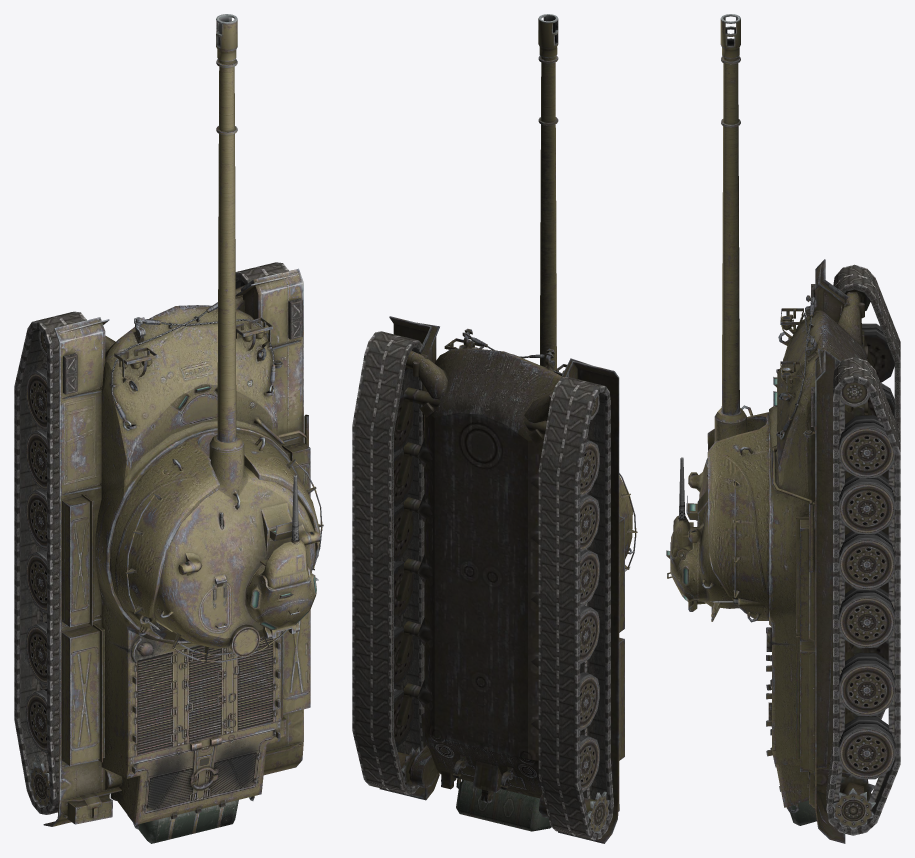
The picture shows the model from 3 angles, left to right: view 1: azimuth 30°, elevation 25°; view 2: azimuth 150°, elevation 25°; view 3: azimuth 270°, elevation 25°; orthographic projection. The views are drawn at different scales.
Visible parts, largest first — view 1: hull, gun_01_mask, chassis_track_L, turret_01, gun_01, chassis_wheel_L_07, chassis_wheel_L_06, chassis_wheel_L_05, chassis_wheel_L_02, chassis_wheel_L_04, chassis_wheel_L_03, chassis_wheel_L_08 (+1 smaller); view 2: hull, chassis_track_L, chassis_track_R, gun_01, chassis_wheel_L_06, chassis_wheel_L_05, chassis_wheel_L_04, chassis_wheel_L_07, chassis_wheel_L_03, turret_01, chassis_wheel_L_02, chassis_wheel_L_08 (+6 smaller); view 3: hull, turret_01, chassis_track_R, gun_01, gun_01_mask, chassis_wheel_R_07, chassis_wheel_R_06, chassis_wheel_R_05, chassis_wheel_R_03, chassis_wheel_R_04, chassis_wheel_R_02, chassis_track_L (+3 smaller).
Part boxes in pixels (box(x1,y1,x2,y2)): hull: box(43, 268, 310, 843); gun_01_mask: box(154, 434, 320, 662); chassis_track_L: box(14, 311, 86, 814); turret_01: box(110, 431, 323, 640); gun_01: box(216, 14, 237, 442); chassis_wheel_L_07: box(26, 689, 47, 753); chassis_wheel_L_06: box(26, 621, 46, 685); chassis_wheel_L_05: box(26, 550, 46, 612); chassis_wheel_L_02: box(26, 368, 46, 432); chassis_wheel_L_04: box(26, 488, 46, 551); chassis_wheel_L_03: box(26, 429, 46, 491); chassis_wheel_L_08: box(29, 762, 50, 807); hull: box(379, 316, 624, 843); chassis_track_L: box(538, 376, 613, 840); chassis_track_R: box(352, 331, 424, 794); gun_01: box(538, 14, 558, 370); chassis_wheel_L_06: box(580, 671, 599, 730); chassis_wheel_L_05: box(580, 605, 599, 664); chassis_wheel_L_04: box(580, 549, 599, 606); chassis_wheel_L_07: box(580, 734, 599, 792); chassis_wheel_L_03: box(580, 494, 599, 552); turret_01: box(619, 473, 637, 571); chassis_wheel_L_02: box(580, 440, 599, 497); chassis_wheel_L_08: box(584, 791, 609, 833); hull: box(766, 259, 873, 843); turret_01: box(707, 405, 768, 622); chassis_track_R: box(826, 357, 900, 835); gun_01: box(720, 14, 740, 415); gun_01_mask: box(666, 408, 746, 621); chassis_wheel_R_07: box(839, 716, 894, 779); chassis_wheel_R_06: box(839, 653, 894, 715); chassis_wheel_R_05: box(839, 588, 894, 648); chassis_wheel_R_03: box(839, 475, 894, 534); chassis_wheel_R_04: box(839, 530, 894, 590); chassis_wheel_R_02: box(839, 415, 894, 478); chassis_track_L: box(833, 264, 900, 719).
Size of the model in its own units: 3.54 by 11.53 by 3.1.
Materials: 2 (2 with a texture image).
